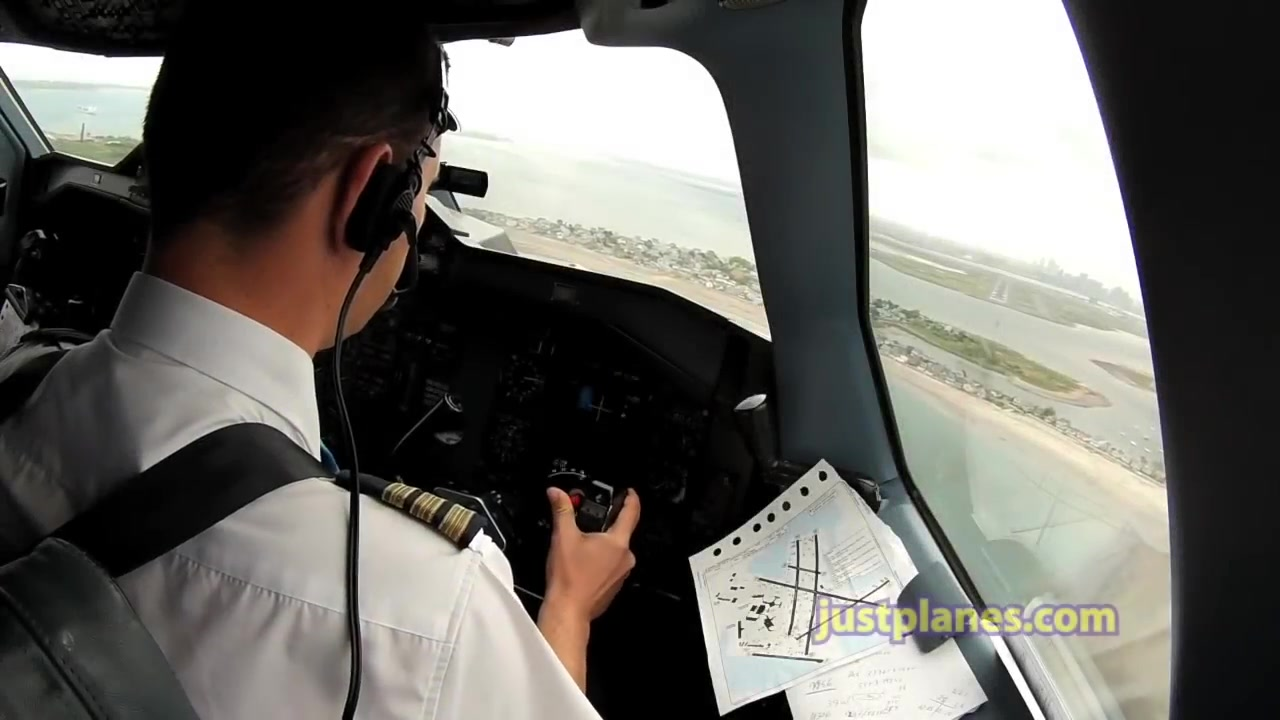runway: (987, 275, 1014, 305)
